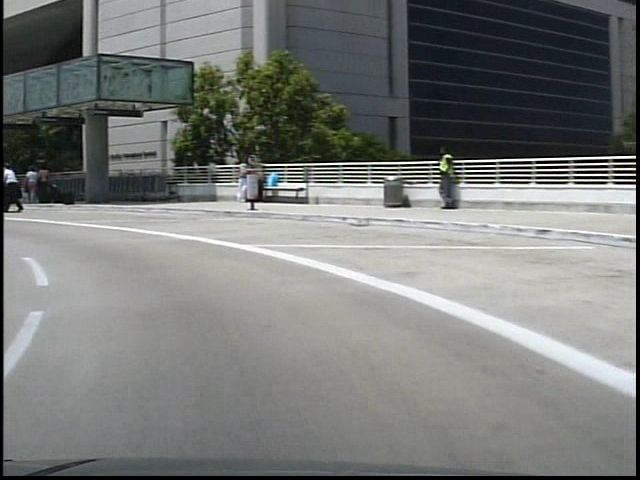person: (427, 149, 453, 219), (20, 161, 35, 202), (33, 164, 47, 207)
